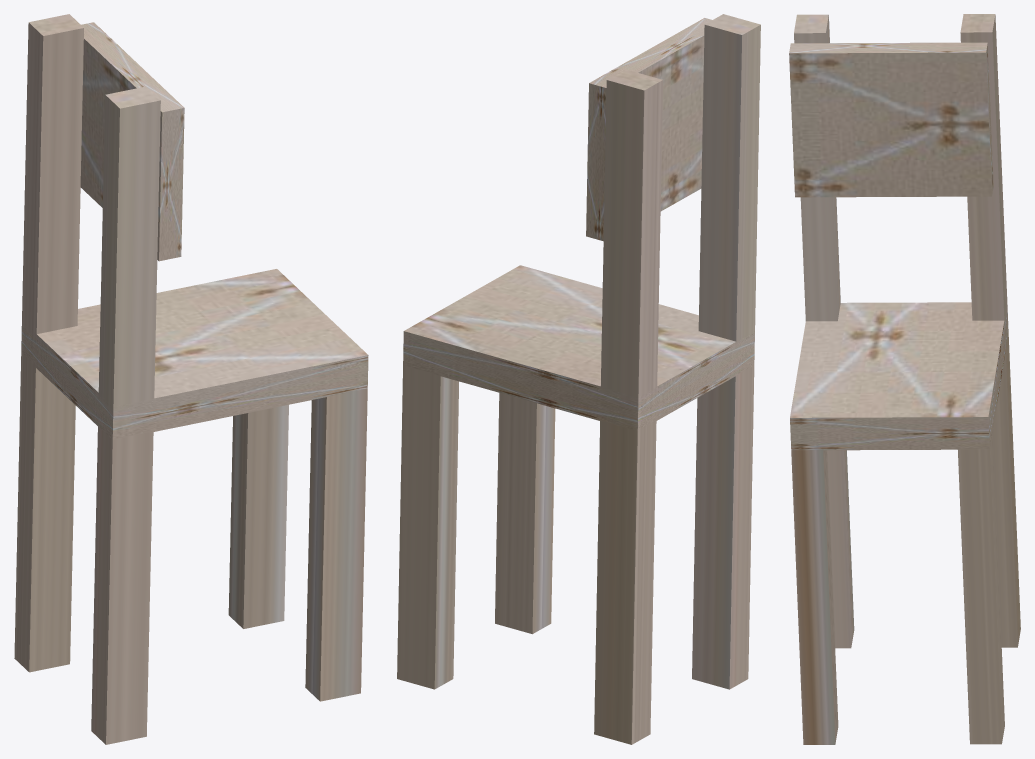
Rendered from chaise2.gltf.
The picture shows the model from 3 angles, left to right: view 1: azimuth 30°, elevation 25°; view 2: azimuth 150°, elevation 25°; view 3: azimuth 270°, elevation 25°; orthographic projection. The views are drawn at different scales.
Visible parts, largest first — view 1: chaise2; view 2: chaise2; view 3: chaise2.
Part boxes in pixels (<box>): chaise2: <box>14,14,368,744</box>; chaise2: <box>397,14,760,744</box>; chaise2: <box>789,14,1020,744</box>.
Bounding box in the file's own units: 1.29 × 3.13 × 1.05.
Materials: 1 (1 with a texture image).
